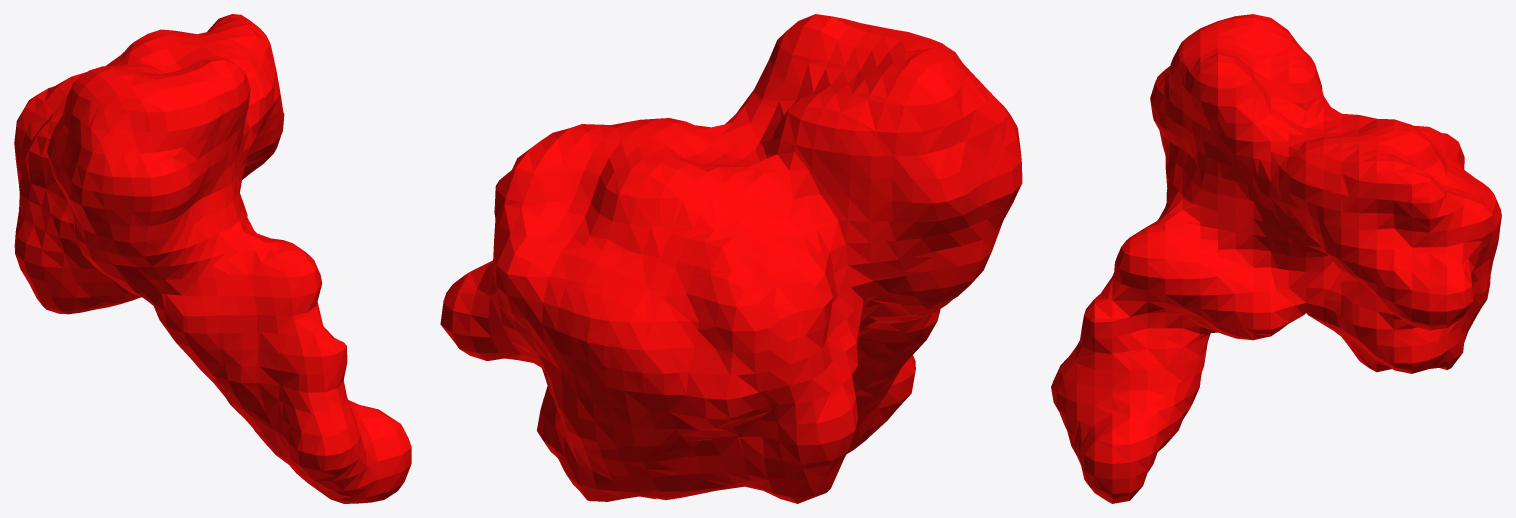
Rendered from roxA_coarse.dae.
3 views of the same model, side by side, from view 1: azimuth 30°, elevation 25°; view 2: azimuth 150°, elevation 25°; view 3: azimuth 270°, elevation 25° (orthographic). The views are drawn at different scales.
Parts seen in each view (by area): view 1: roxA; view 2: roxA; view 3: roxA.
Boxes of the visible parts, x1=… form: roxA: x1=14, y1=14, x2=411, y2=503; roxA: x1=440, y1=14, x2=1022, y2=503; roxA: x1=1051, y1=14, x2=1501, y2=503.
Bounding box in the file's own units: 58.73 × 73.45 × 75.74.
